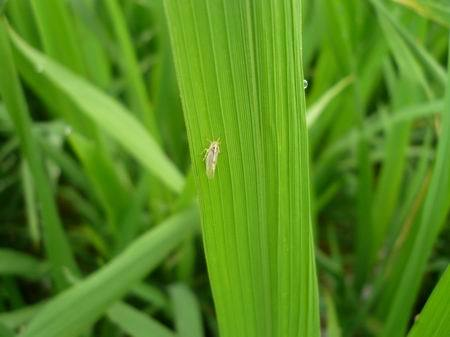Delphacidae: (199, 136, 223, 182)
